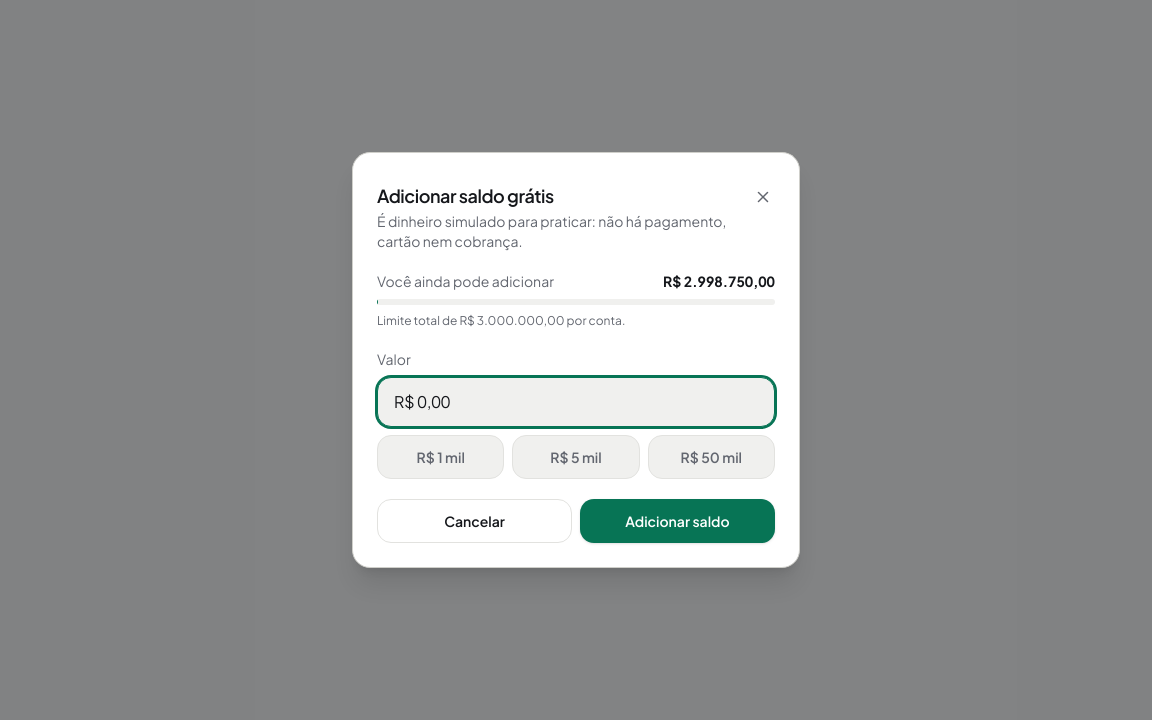
TopUpDialog (Adicionar saldo grátis) › os atalhos preenchem o campo, ficam marcados e o botão repete o valor
This screenshot has width=1152, height=720.
Click the button "R$ 5 mil". click: point(576, 457)
box: 512,435 -> 640,479
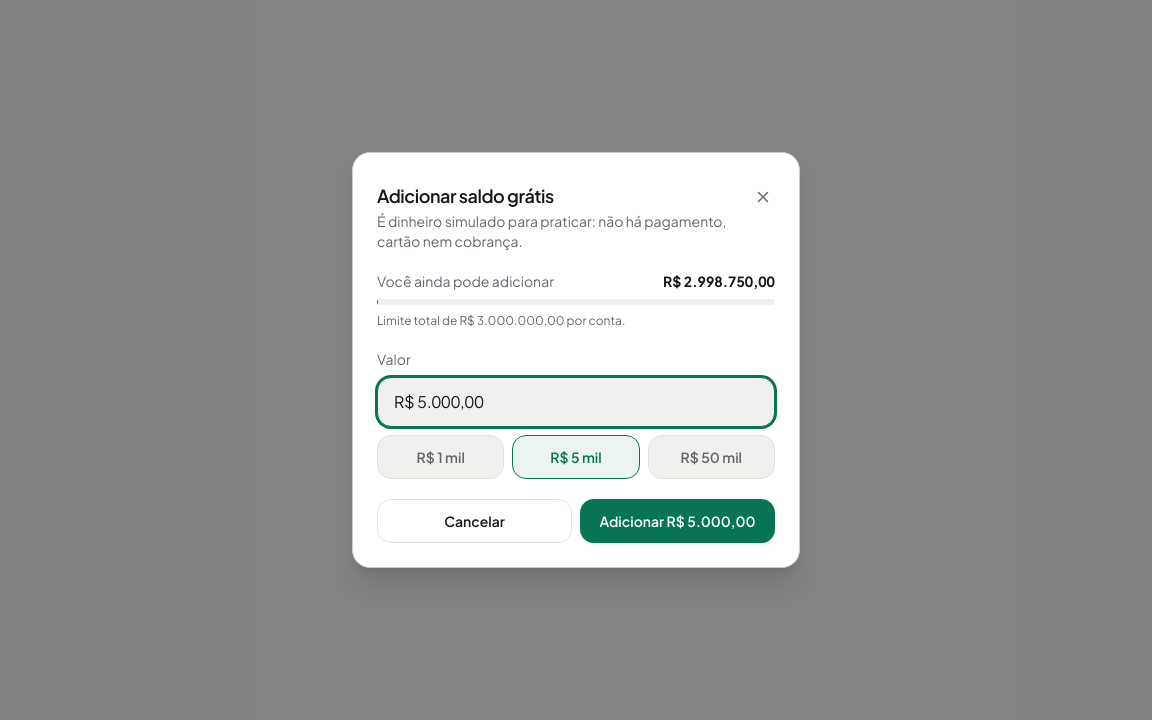
Now the button "Adicionar R$ 5.000,00" is shown, box 580,499 -> 775,543
